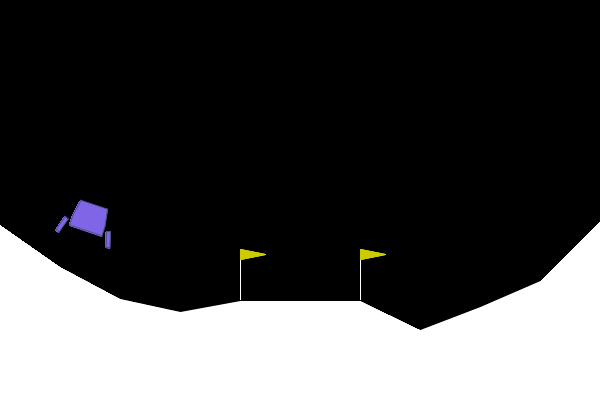lander: (53, 194, 123, 251)
